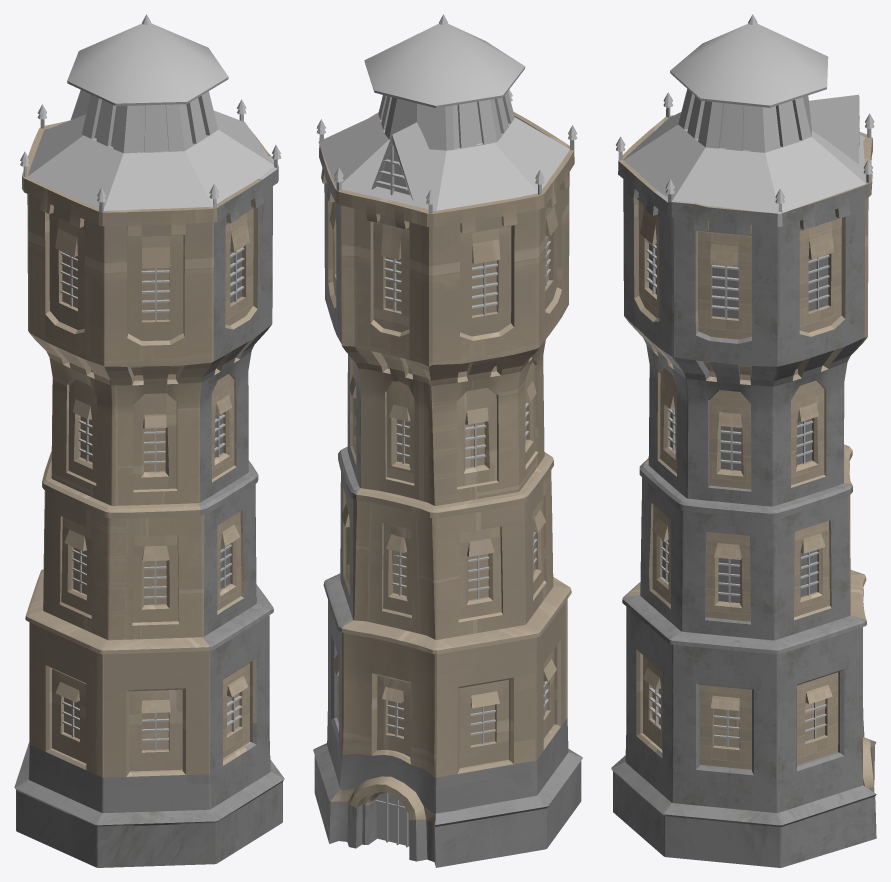
File: Tower.fbx
The picture shows the model from 3 angles, left to right: view 1: azimuth 30°, elevation 25°; view 2: azimuth 150°, elevation 25°; view 3: azimuth 270°, elevation 25°; orthographic projection.
Parts seen in each view (by area): view 1: polySurface19; view 2: polySurface19; view 3: polySurface19.
Boxes of the visible parts, x1=… form: polySurface19: x1=14, y1=14, x2=284, y2=867; polySurface19: x1=313, y1=14, x2=582, y2=867; polySurface19: x1=611, y1=14, x2=876, y2=867.
Size of the model in its own units: 2.19 by 7.12 by 2.15.
